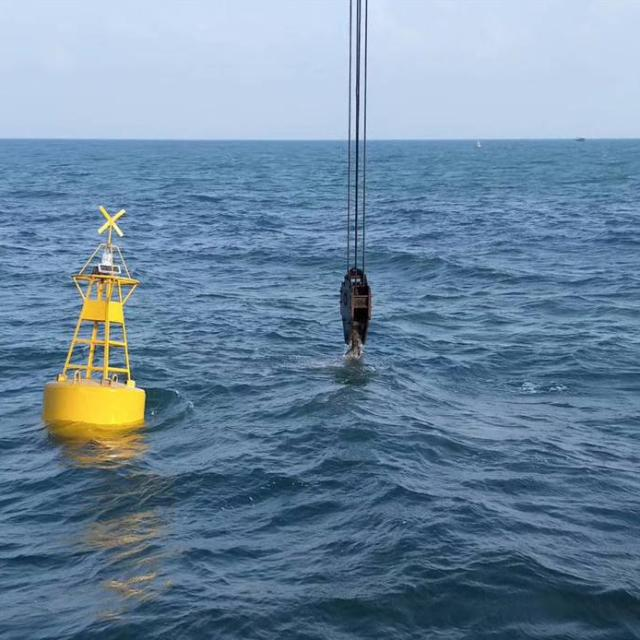buoy: (38, 199, 152, 440)
